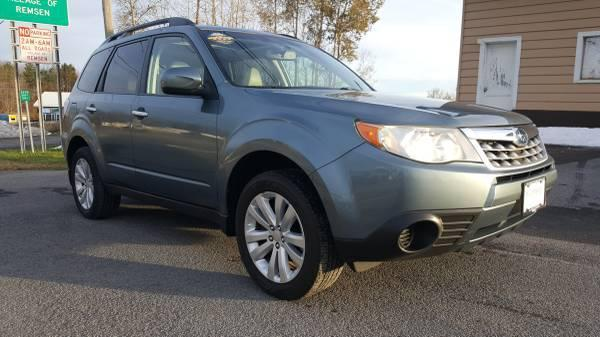Front_Bumper: (308, 142, 556, 259)
Front_Fender: (215, 83, 364, 218)
Front_Right_Door: (133, 95, 218, 212)
Front_Right_Window: (140, 34, 221, 100)
Front_Windshield: (201, 30, 375, 92)
Grille: (461, 123, 549, 172)
Hood: (249, 85, 531, 128)
Rear_Fender: (61, 48, 113, 164)
Rear_Right_Door: (83, 93, 137, 193)
Rear_Right_Window: (95, 38, 153, 95)
Right_Headlight: (355, 119, 481, 165)
Roof: (93, 24, 304, 88)
Wheel: (233, 170, 339, 299), (71, 151, 121, 223)
